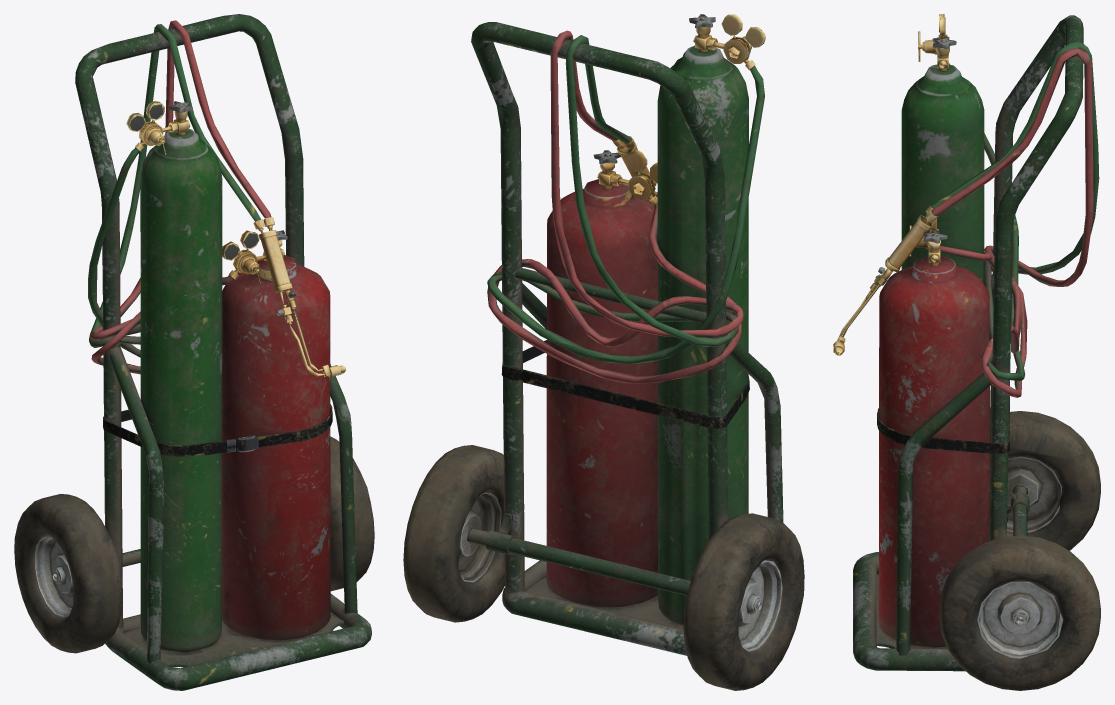
File: portable_welding_cart.glb
3 renders of one model, left to right at view 1: azimuth 30°, elevation 25°; view 2: azimuth 150°, elevation 25°; view 3: azimuth 270°, elevation 25°, orthographic. The views are drawn at different scales.
Parts seen in each view (by area): view 1: portable_welding_cart; view 2: portable_welding_cart; view 3: portable_welding_cart.
Boxes of the visible parts, box(x1,y1,x2,y2) form: portable_welding_cart: box(14, 14, 374, 690); portable_welding_cart: box(403, 14, 804, 690); portable_welding_cart: box(833, 14, 1100, 690).
Bounding box in the file's own units: 0.8365 × 1.56 × 0.6545.
Materials: 2 (2 with a texture image).
